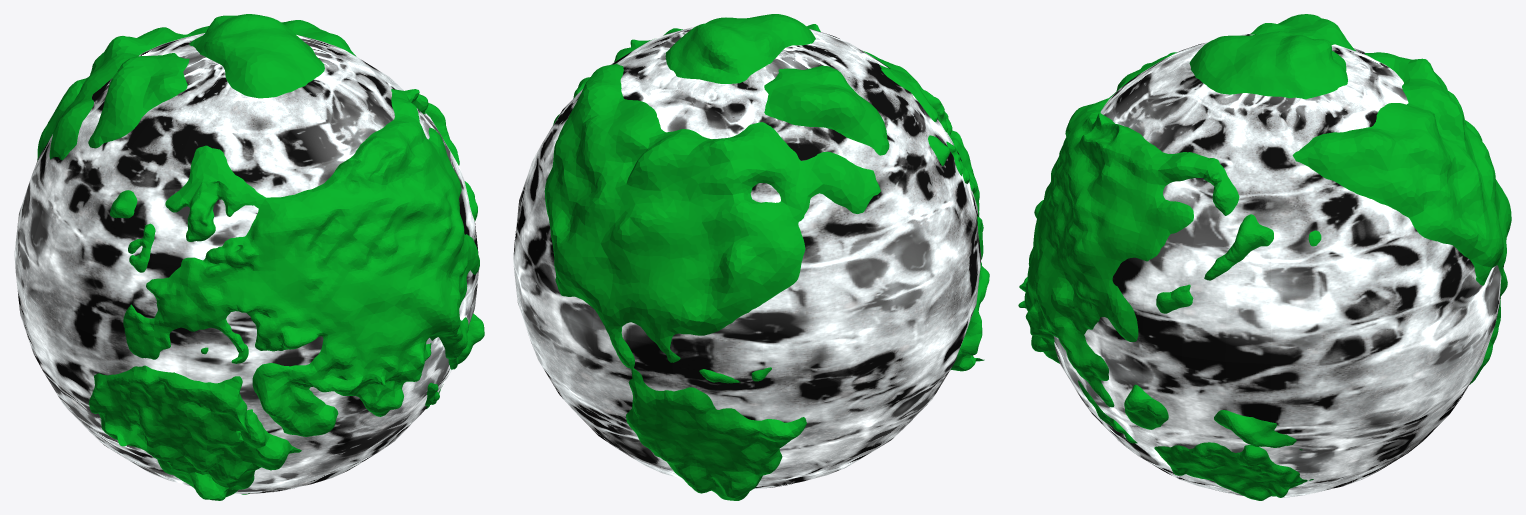
File: earth.fbx
3 renders of one model, left to right at view 1: azimuth 30°, elevation 25°; view 2: azimuth 150°, elevation 25°; view 3: azimuth 270°, elevation 25°, orthographic.
Visible parts, largest first — view 1: Ground, Oean; view 2: Oean, Ground; view 3: Oean, Ground.
Boxes of the visible parts, box(x1,y1,x2,y2) form: Ground: box(37, 14, 484, 500); Oean: box(14, 33, 479, 493); Oean: box(513, 27, 981, 488); Ground: box(544, 14, 989, 500); Oean: box(1053, 34, 1503, 497); Ground: box(1018, 14, 1511, 500).
Bounding box in the file's own units: 200 × 211 × 212.
